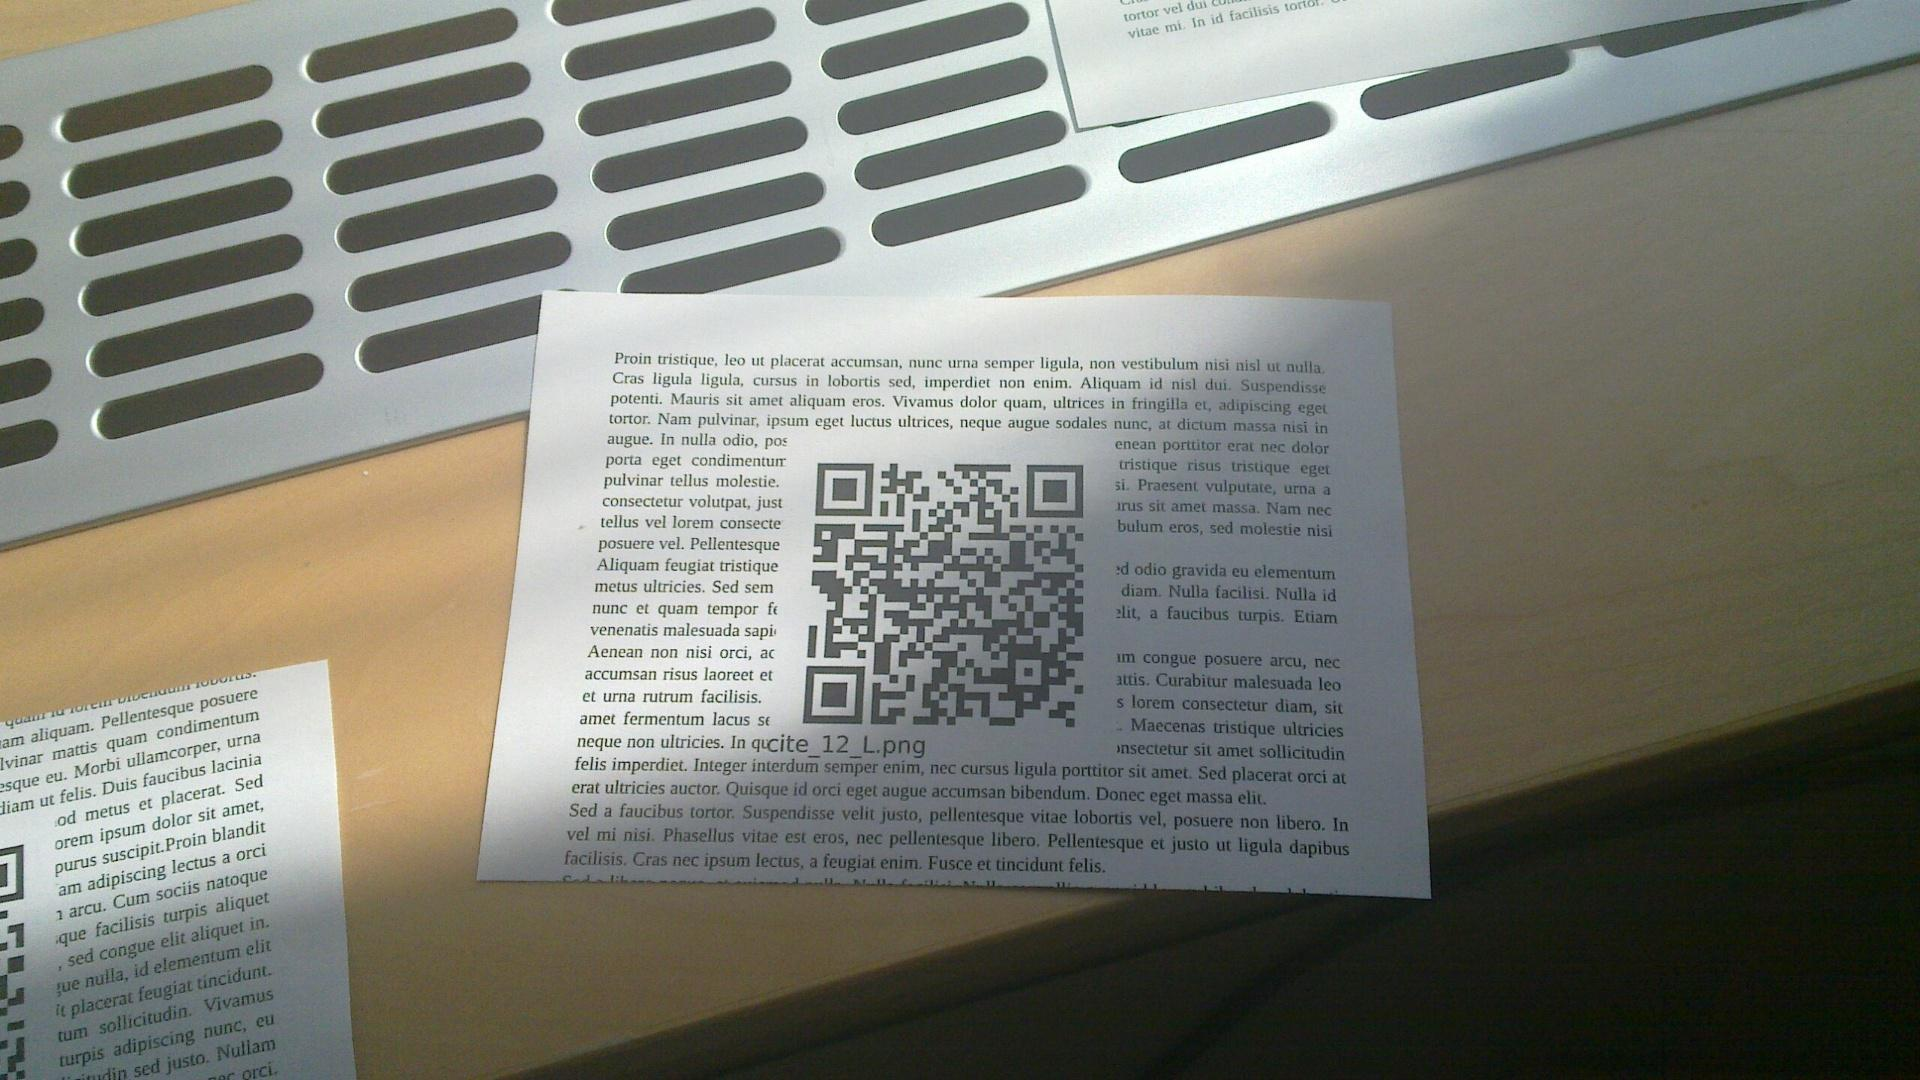Finder pattern: (799, 659, 866, 729), (810, 455, 880, 518), (1023, 459, 1087, 524)
